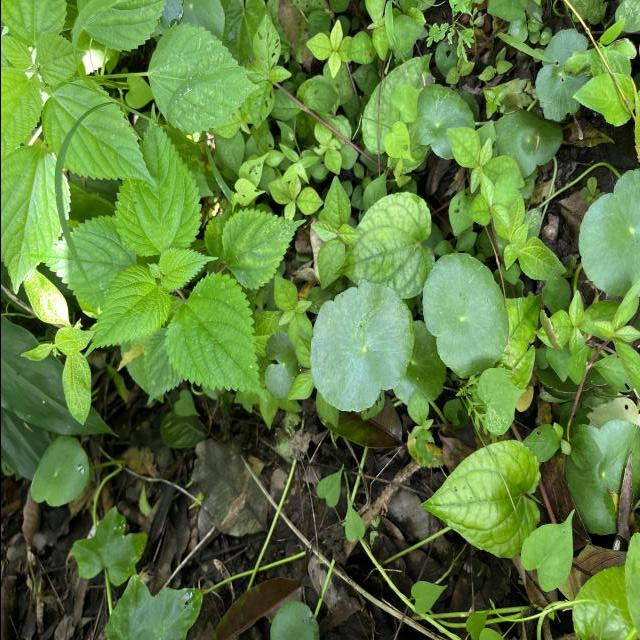Bacopa monnieri: (306, 279, 416, 416), (420, 251, 509, 381), (574, 164, 640, 302)
